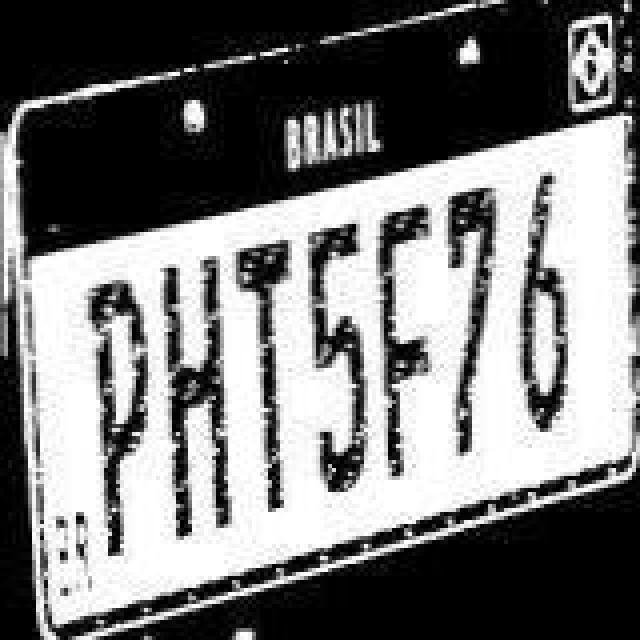5: (304, 214, 372, 498)
6: (510, 162, 566, 438)
7: (438, 188, 502, 460)
F: (372, 198, 440, 482)
H: (156, 254, 232, 546)
P: (72, 270, 148, 562)
T: (230, 228, 302, 516)
